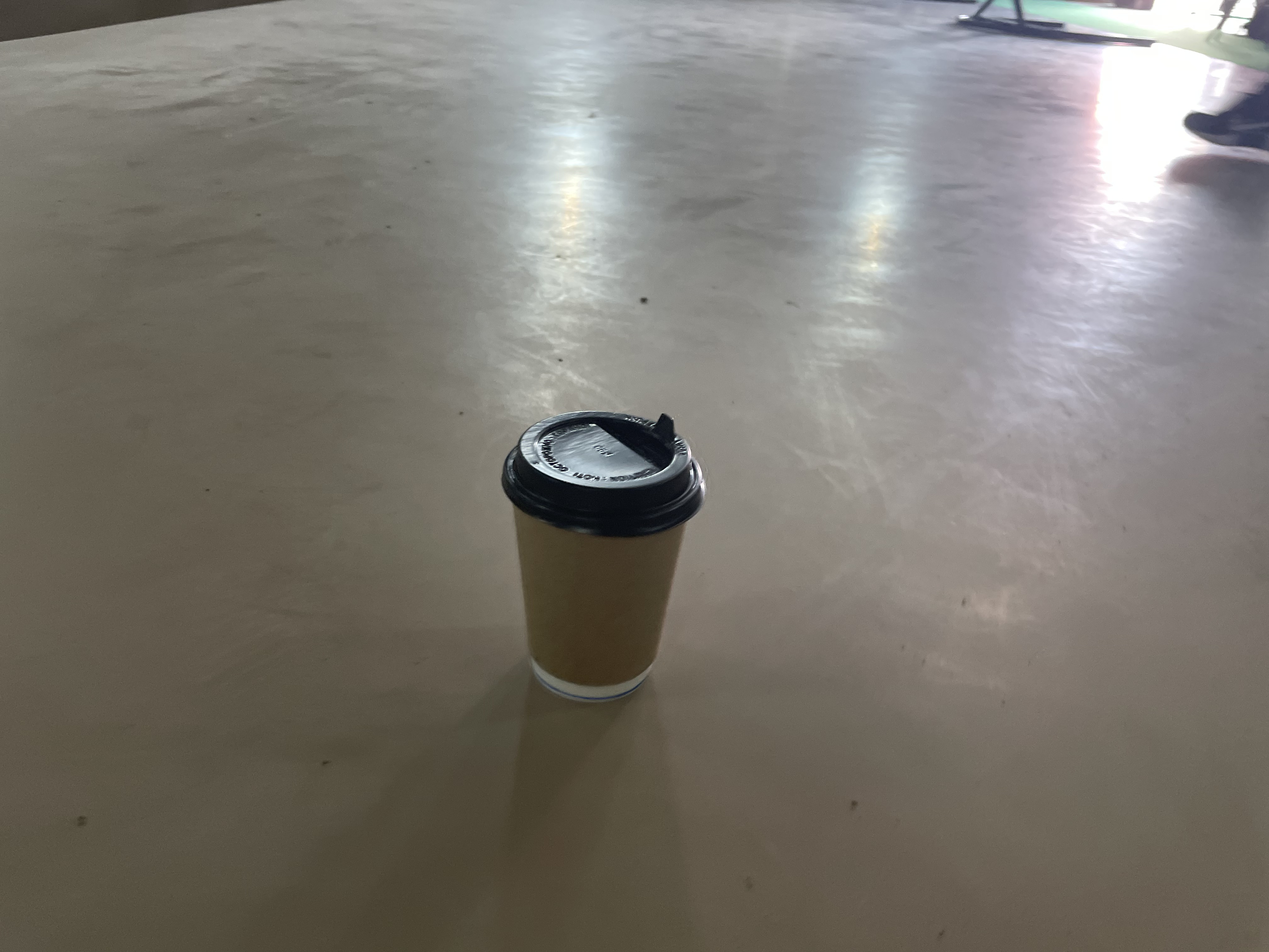cup: (501, 410, 701, 701)
